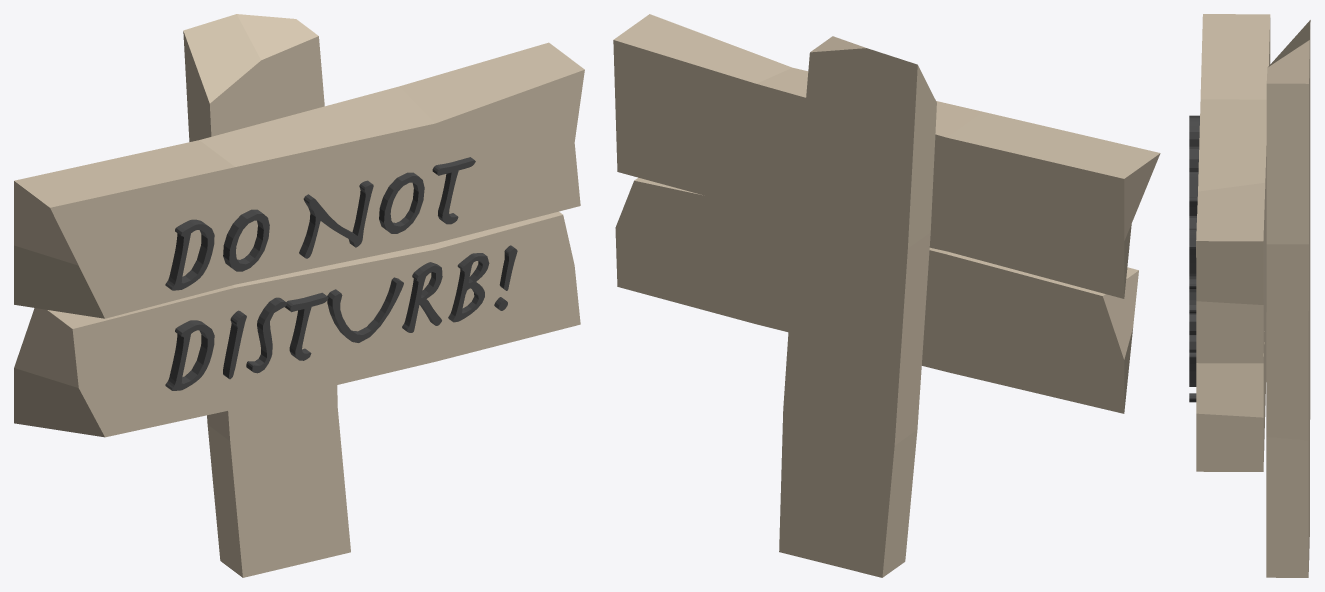
File: Sign_2.fbx
The picture shows the model from 3 angles, left to right: view 1: azimuth 30°, elevation 25°; view 2: azimuth 150°, elevation 25°; view 3: azimuth 270°, elevation 25°; orthographic projection. The views are drawn at different scales.
Parts seen in each view (by area): view 1: Sign_2; view 2: Sign_2; view 3: Sign_2.
Part boxes in pixels (bbox=[...]): Sign_2: bbox=[14, 14, 584, 577]; Sign_2: bbox=[613, 14, 1160, 577]; Sign_2: bbox=[1189, 14, 1310, 577].
Bounding box in the file's own units: 111 × 23.84 × 108.
